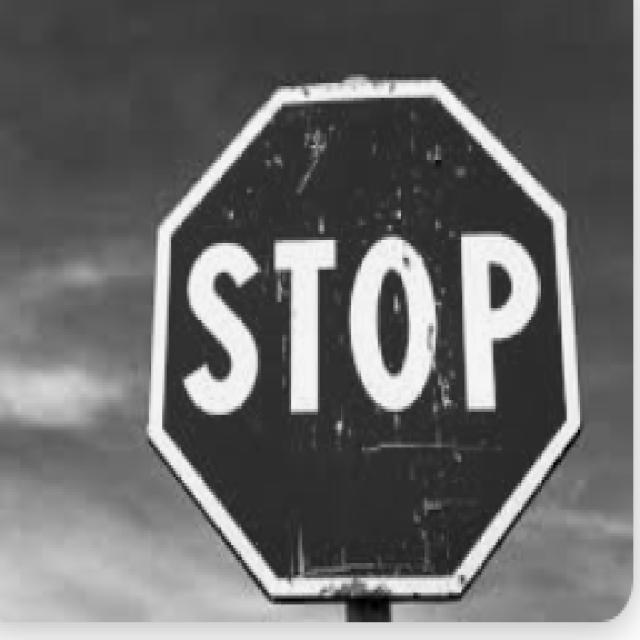Stop-signs: (148, 80, 582, 597)
